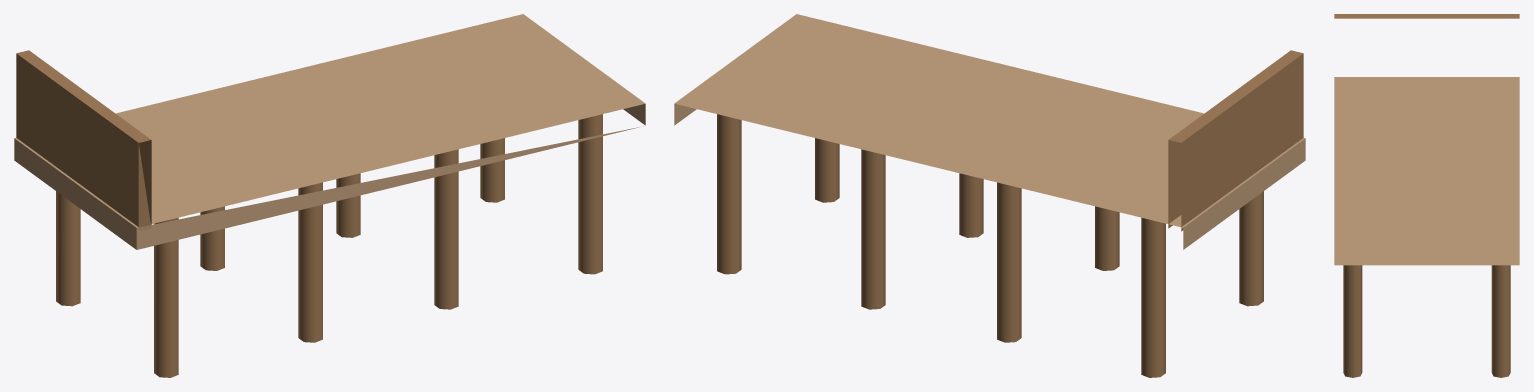
File: ASTX_INFRA_DOCK.glb
3 renders of one model, left to right at view 1: azimuth 30°, elevation 25°; view 2: azimuth 150°, elevation 25°; view 3: azimuth 270°, elevation 25°, orthographic. The views are drawn at different scales.
Visible parts, largest first — view 1: ASTX_INFRA_DOCK_deck, ASTX_INFRA_DOCK_rail, ASTX_INFRA_DOCK_pile2.51.0, ASTX_INFRA_DOCK_pile0.81.0, ASTX_INFRA_DOCK_pile-0.81.0, ASTX_INFRA_DOCK_pile-2.51.0, ASTX_INFRA_DOCK_pile-2.5-1.0, ASTX_INFRA_DOCK_pile2.5-1.0, ASTX_INFRA_DOCK_pile0.8-1.0, ASTX_INFRA_DOCK_pile-0.8-1.0; view 2: ASTX_INFRA_DOCK_deck, ASTX_INFRA_DOCK_rail, ASTX_INFRA_DOCK_pile-2.5-1.0, ASTX_INFRA_DOCK_pile0.8-1.0, ASTX_INFRA_DOCK_pile-0.8-1.0, ASTX_INFRA_DOCK_pile2.5-1.0, ASTX_INFRA_DOCK_pile-2.51.0, ASTX_INFRA_DOCK_pile0.81.0, ASTX_INFRA_DOCK_pile2.51.0, ASTX_INFRA_DOCK_pile-0.81.0; view 3: ASTX_INFRA_DOCK_deck, ASTX_INFRA_DOCK_pile2.5-1.0, ASTX_INFRA_DOCK_pile2.51.0, ASTX_INFRA_DOCK_rail.
Part boxes in pixels (x1,y1,x2,y2): ASTX_INFRA_DOCK_deck: (14, 14, 645, 249); ASTX_INFRA_DOCK_rail: (16, 50, 151, 230); ASTX_INFRA_DOCK_pile2.51.0: (578, 114, 602, 274); ASTX_INFRA_DOCK_pile0.81.0: (434, 149, 458, 309); ASTX_INFRA_DOCK_pile-0.81.0: (298, 182, 322, 342); ASTX_INFRA_DOCK_pile-2.51.0: (154, 217, 178, 377); ASTX_INFRA_DOCK_pile-2.5-1.0: (56, 191, 80, 306); ASTX_INFRA_DOCK_pile2.5-1.0: (480, 138, 504, 202); ASTX_INFRA_DOCK_pile0.8-1.0: (336, 173, 360, 237); ASTX_INFRA_DOCK_pile-0.8-1.0: (200, 206, 224, 270); ASTX_INFRA_DOCK_deck: (674, 14, 1305, 249); ASTX_INFRA_DOCK_rail: (1168, 50, 1303, 231); ASTX_INFRA_DOCK_pile-2.5-1.0: (1141, 217, 1165, 377); ASTX_INFRA_DOCK_pile0.8-1.0: (861, 149, 885, 309); ASTX_INFRA_DOCK_pile-0.8-1.0: (997, 182, 1021, 342); ASTX_INFRA_DOCK_pile2.5-1.0: (717, 114, 741, 274); ASTX_INFRA_DOCK_pile-2.51.0: (1239, 191, 1263, 306); ASTX_INFRA_DOCK_pile0.81.0: (959, 173, 983, 237); ASTX_INFRA_DOCK_pile2.51.0: (815, 138, 839, 202); ASTX_INFRA_DOCK_pile-0.81.0: (1095, 206, 1119, 270); ASTX_INFRA_DOCK_deck: (1334, 77, 1519, 265); ASTX_INFRA_DOCK_pile2.5-1.0: (1491, 265, 1510, 377); ASTX_INFRA_DOCK_pile2.51.0: (1343, 265, 1362, 377); ASTX_INFRA_DOCK_rail: (1334, 14, 1519, 18).
Size of the model in its own units: 6 by 2.8 by 2.5.
